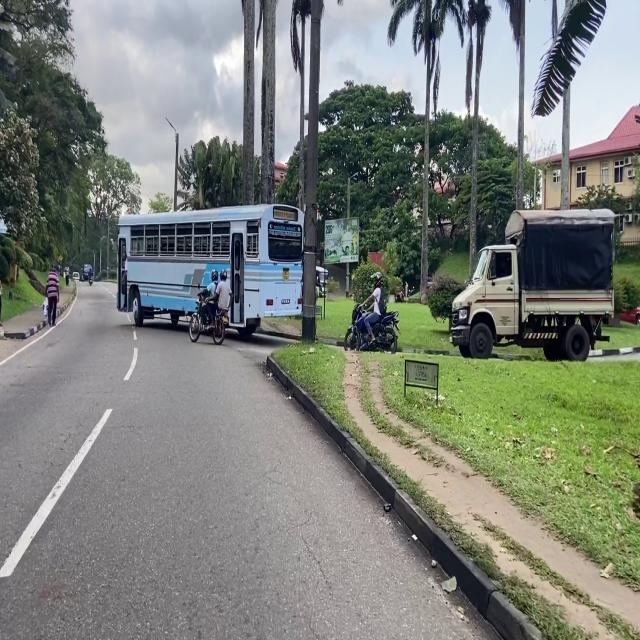bus: (117, 204, 304, 328)
car: (620, 306, 640, 325)
motorcycle: (344, 304, 398, 353), (189, 289, 225, 344), (89, 276, 93, 286)
person: (362, 272, 386, 346), (208, 270, 231, 328), (201, 270, 218, 325), (46, 265, 59, 328), (121, 253, 127, 311), (65, 266, 69, 286), (405, 281, 408, 300), (89, 265, 92, 280)
truck: (451, 209, 614, 360)
van: (82, 264, 90, 281), (72, 271, 80, 281)
